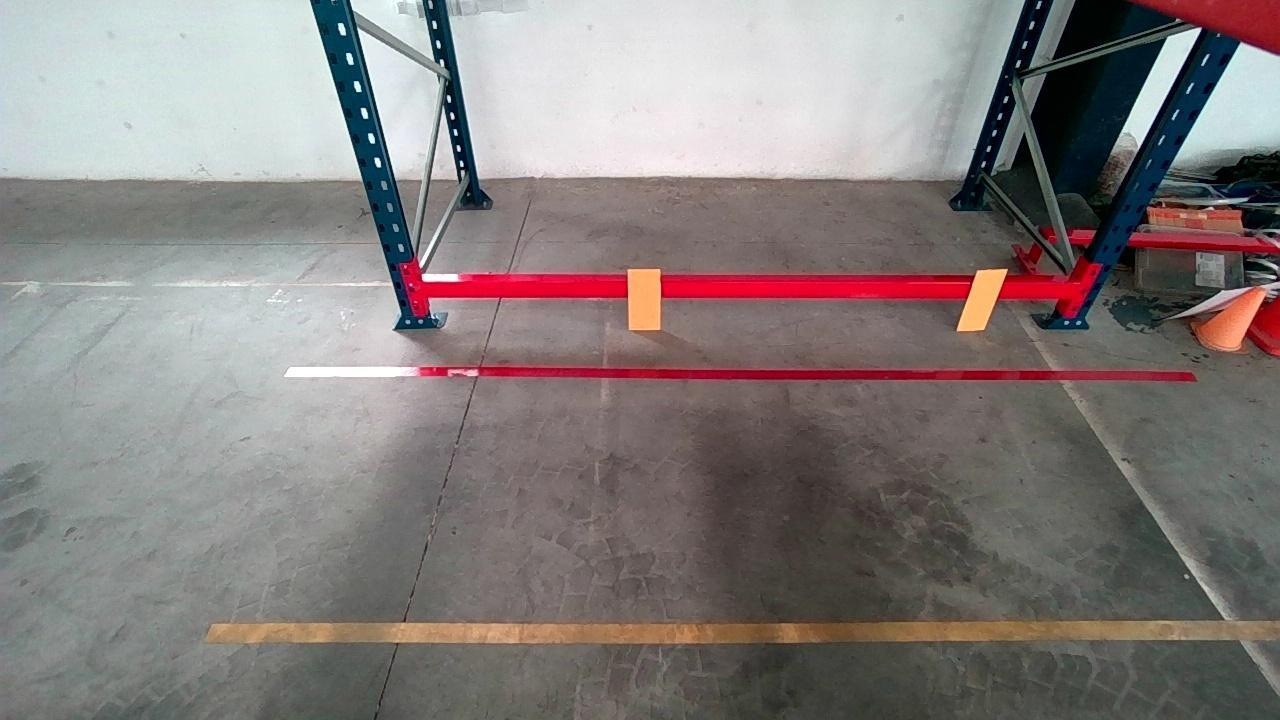h_rack: (422, 275, 1072, 302)
orange_strip: (957, 268, 1011, 329), (628, 267, 661, 329)
red_line: (282, 362, 1198, 382)
yellow_line: (202, 606, 1280, 644)
